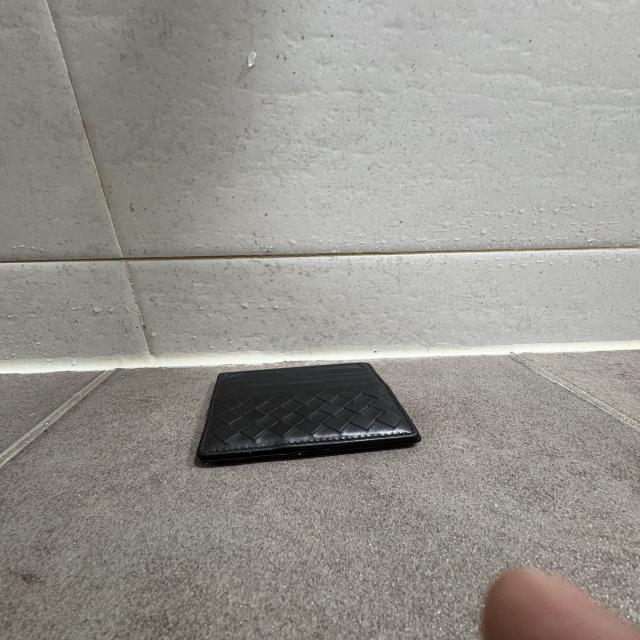wallet: (194, 362, 424, 471)
